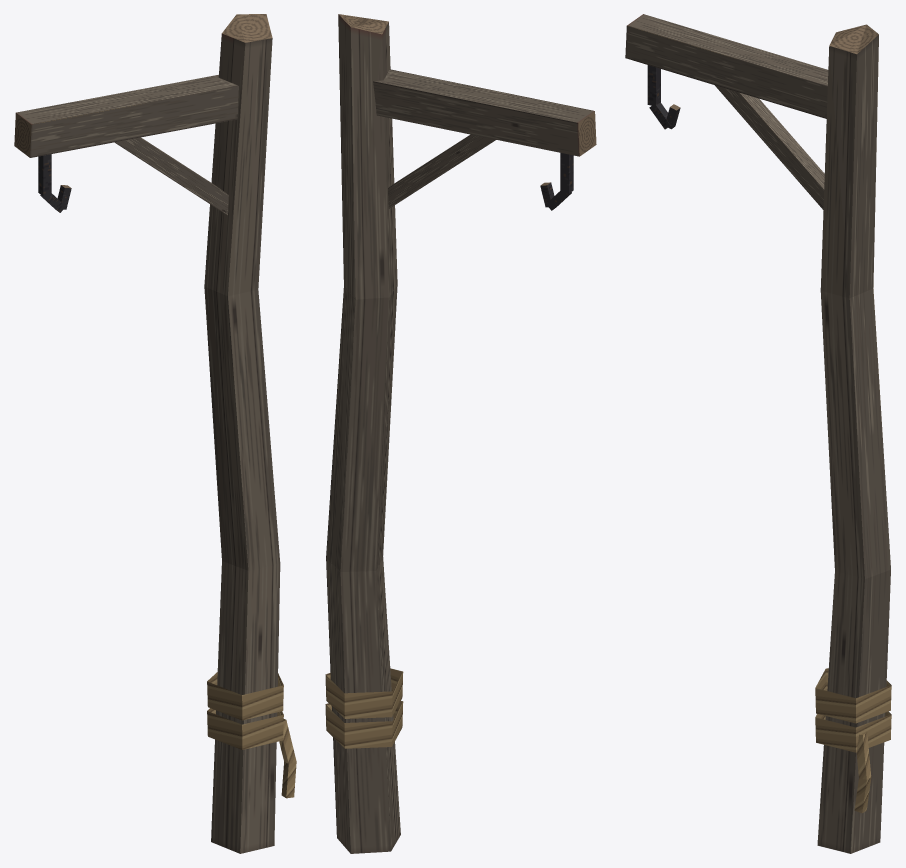
The model's file is SM_CV_LanternPost.fbx.
3 views of the same model, side by side, from view 1: azimuth 30°, elevation 25°; view 2: azimuth 150°, elevation 25°; view 3: azimuth 330°, elevation 25° (orthographic).
Parts seen in each view (by area): view 1: CV_LanternPost_Pole, CV_LanternPost_Arm, CV_LanternPost_Rope, CV_LanternPost_Hook; view 2: CV_LanternPost_Pole, CV_LanternPost_Arm, CV_LanternPost_Rope, CV_LanternPost_Hook; view 3: CV_LanternPost_Pole, CV_LanternPost_Arm, CV_LanternPost_Rope, CV_LanternPost_Hook.
Part boxes in pixels (box(x1,y1,x2,y2)): CV_LanternPost_Pole: box(204, 14, 280, 853); CV_LanternPost_Arm: box(14, 74, 238, 215); CV_LanternPost_Rope: box(207, 672, 296, 798); CV_LanternPost_Hook: box(38, 154, 71, 212); CV_LanternPost_Pole: box(326, 14, 400, 853); CV_LanternPost_Arm: box(373, 69, 596, 208); CV_LanternPost_Rope: box(325, 668, 403, 748); CV_LanternPost_Hook: box(540, 153, 573, 210); CV_LanternPost_Pole: box(817, 24, 890, 853); CV_LanternPost_Arm: box(625, 14, 828, 209); CV_LanternPost_Rope: box(815, 668, 891, 813); CV_LanternPost_Hook: box(647, 65, 680, 129).
Bounding box in the file's own units: 0.7283 × 2.21 × 0.1914.
